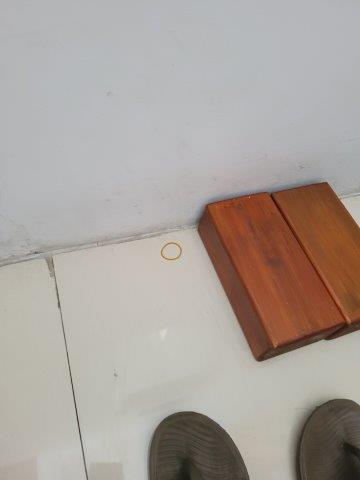karet: (161, 241, 183, 262)
